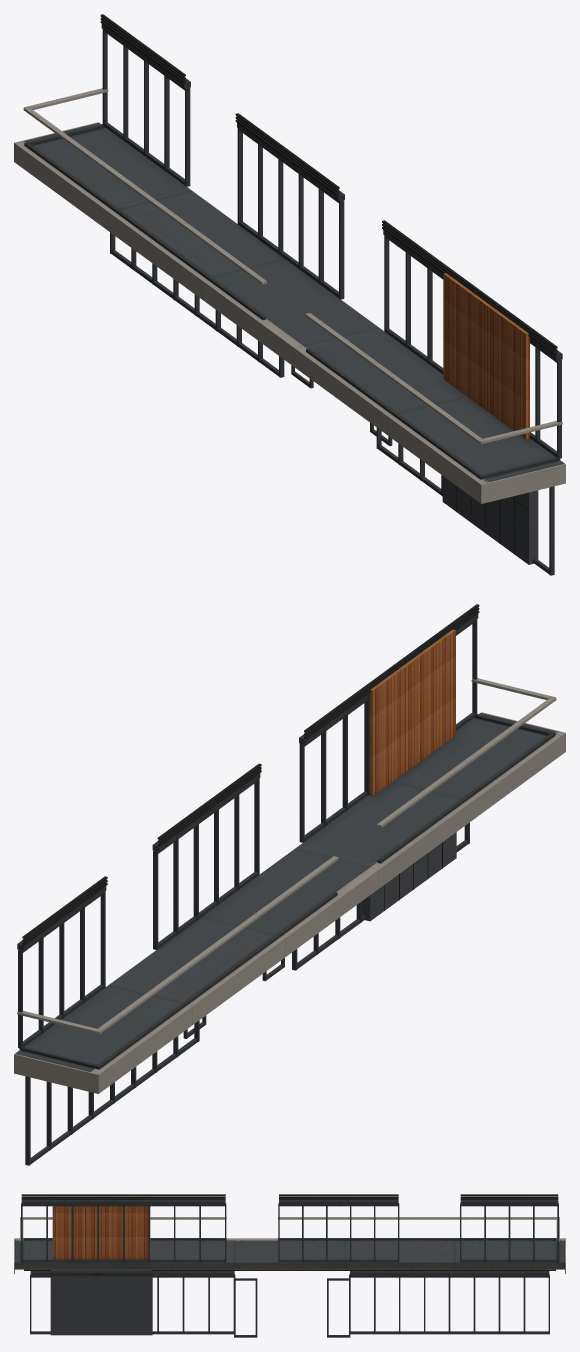
File: lounge_facade.glb
3 renders of one model, top to bottom at view 1: azimuth 30°, elevation 25°; view 2: azimuth 150°, elevation 25°; view 3: azimuth 270°, elevation 25°, orthographic. The views are drawn at different scales.
Visible parts, largest first — view 1: lounge_facade; view 2: lounge_facade; view 3: lounge_facade.
Boxes of the visible parts, x1,y1,x2,y2 form: lounge_facade: [14, 14, 565, 575]; lounge_facade: [14, 604, 565, 1165]; lounge_facade: [14, 1194, 565, 1337].
Size of the model in its own units: 2.99 by 6.91 by 24.9.
Materials: 1 (1 with a texture image).
